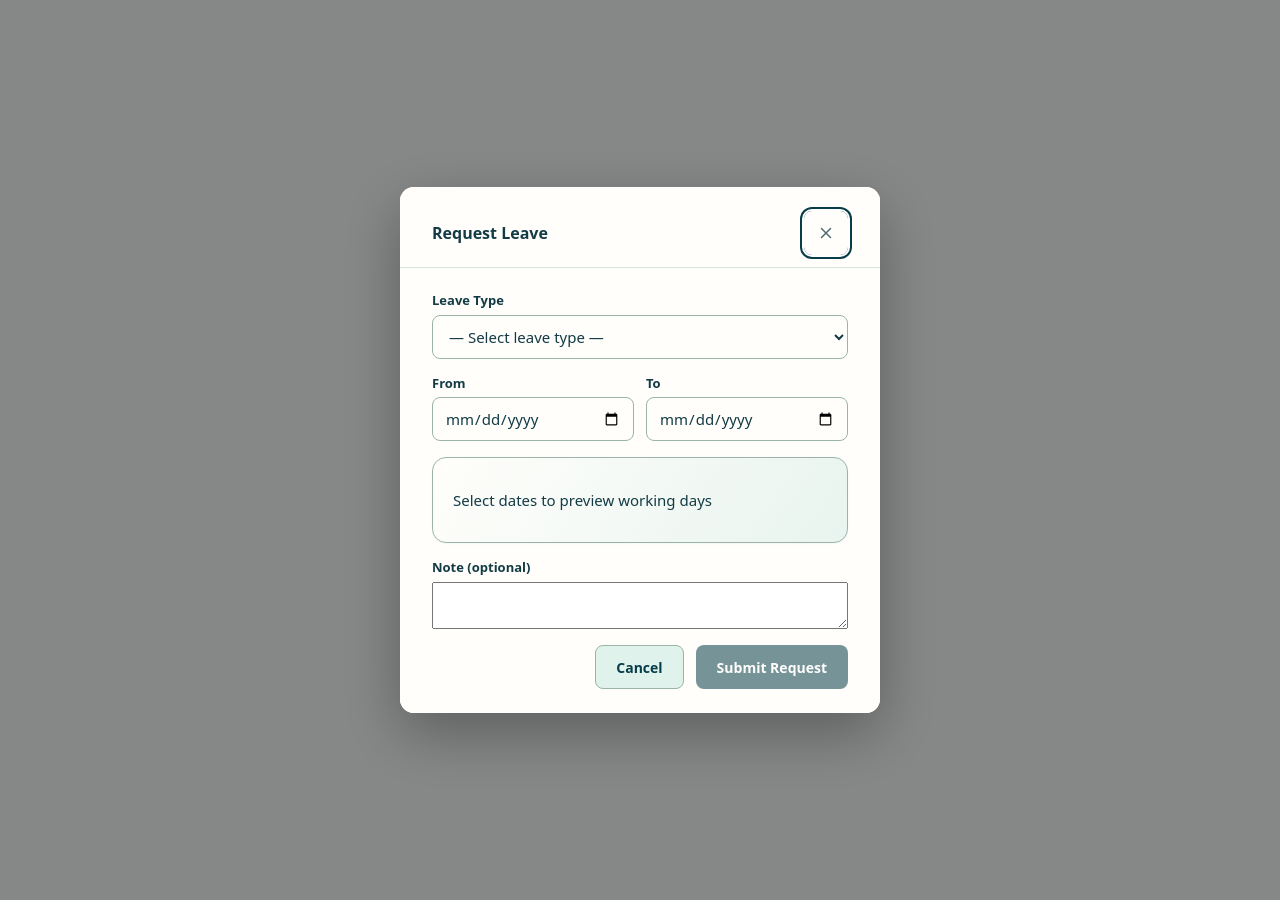
Test: RequestLeaveModal ATDD - Story 10.4 field-level server validation › [P1] keeps the generic block alert path for non-field validation failures
The width and height of the screenshot is (1280, 900).
Expected: the dialog with test id "request-leave-modal" is shown, x1=400 y1=187 x2=880 y2=713
Select "🌴 Annual Leave" in the dropdown labelled "Leave Type" at (640, 336), box x1=432 y1=314 x2=848 y2=358
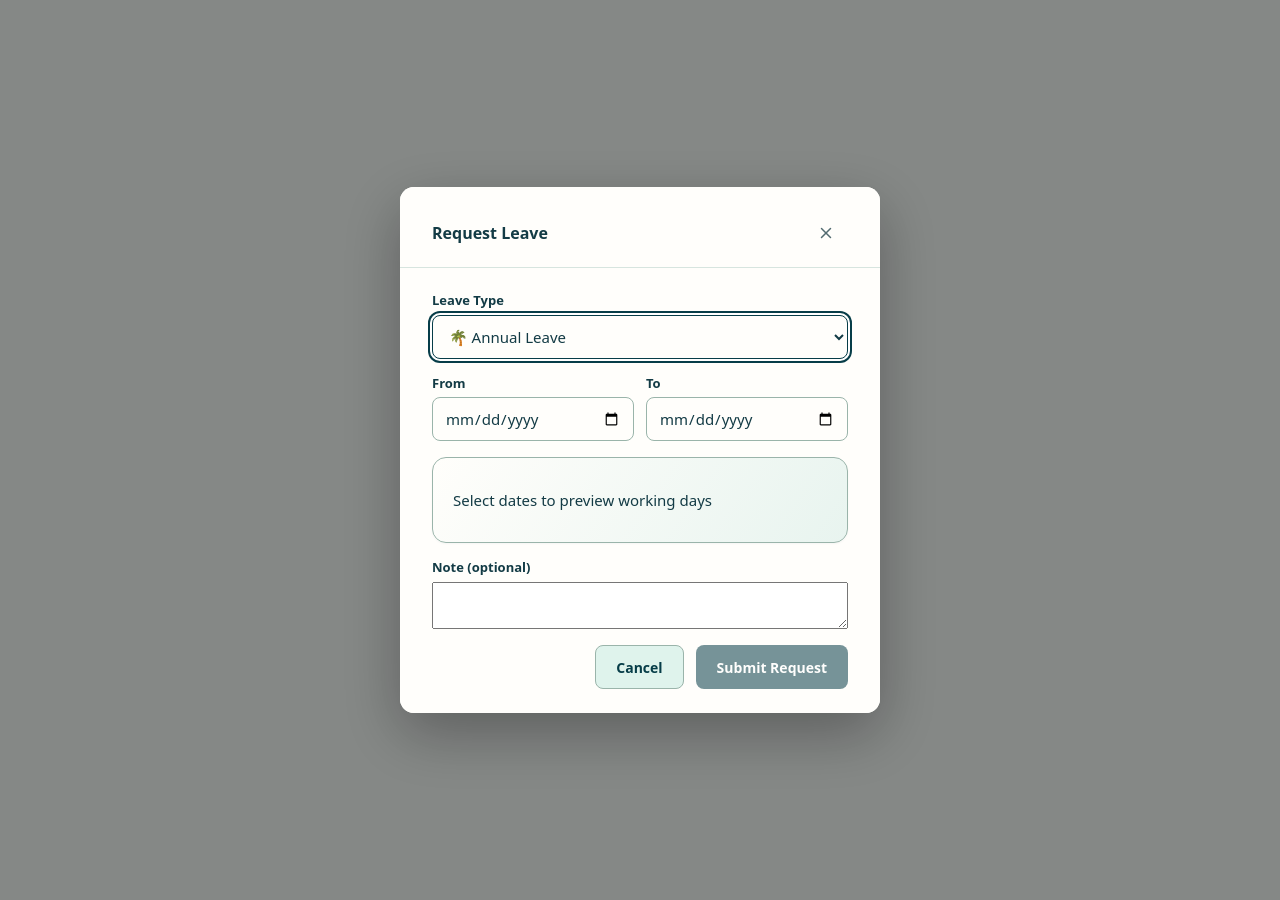
Type "2026-06-10" into the date field with test id "leave-from-date" at (533, 419), box x1=432 y1=397 x2=634 y2=441
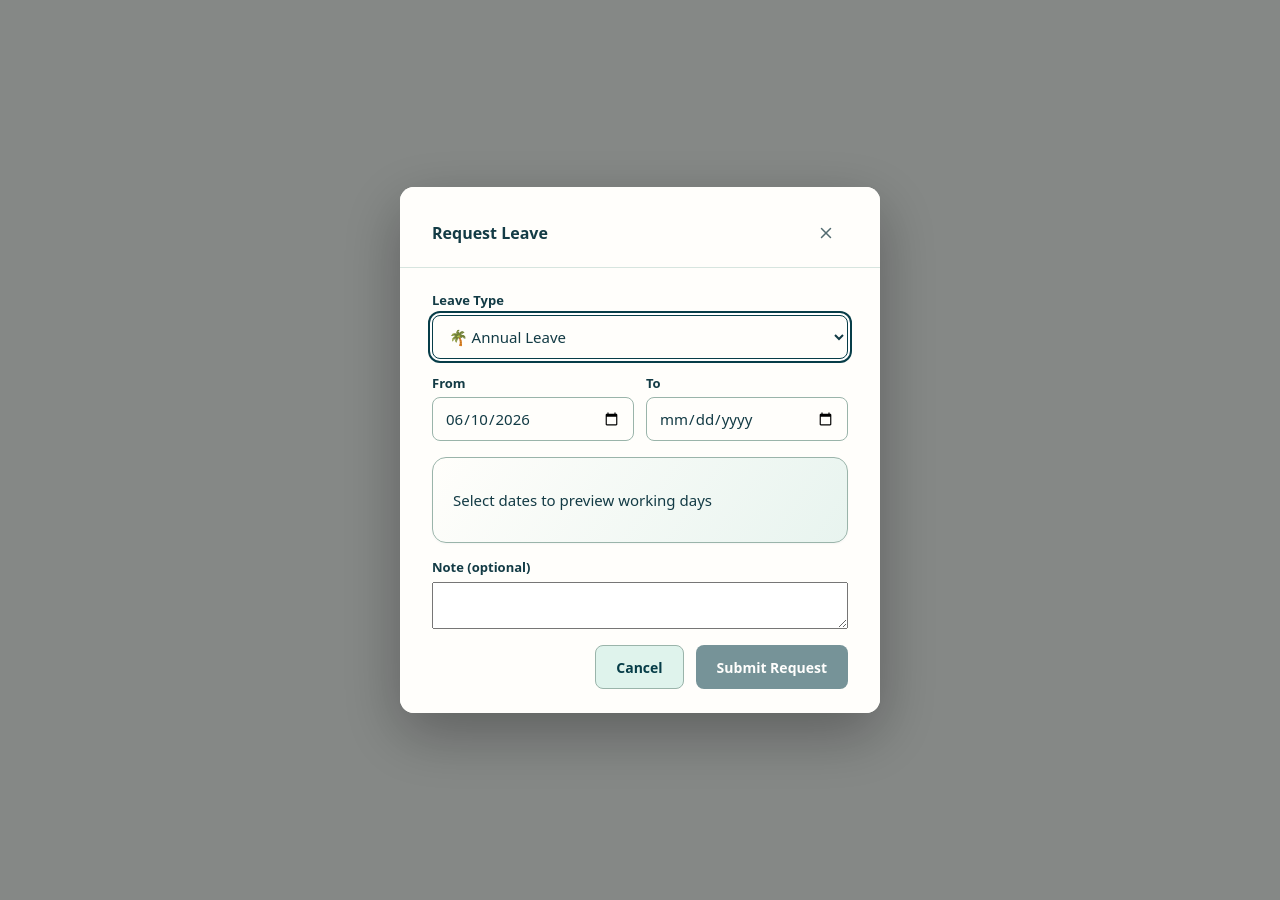
Type "2026-06-12" into the date field with test id "leave-to-date" at (747, 419), box x1=646 y1=397 x2=848 y2=441
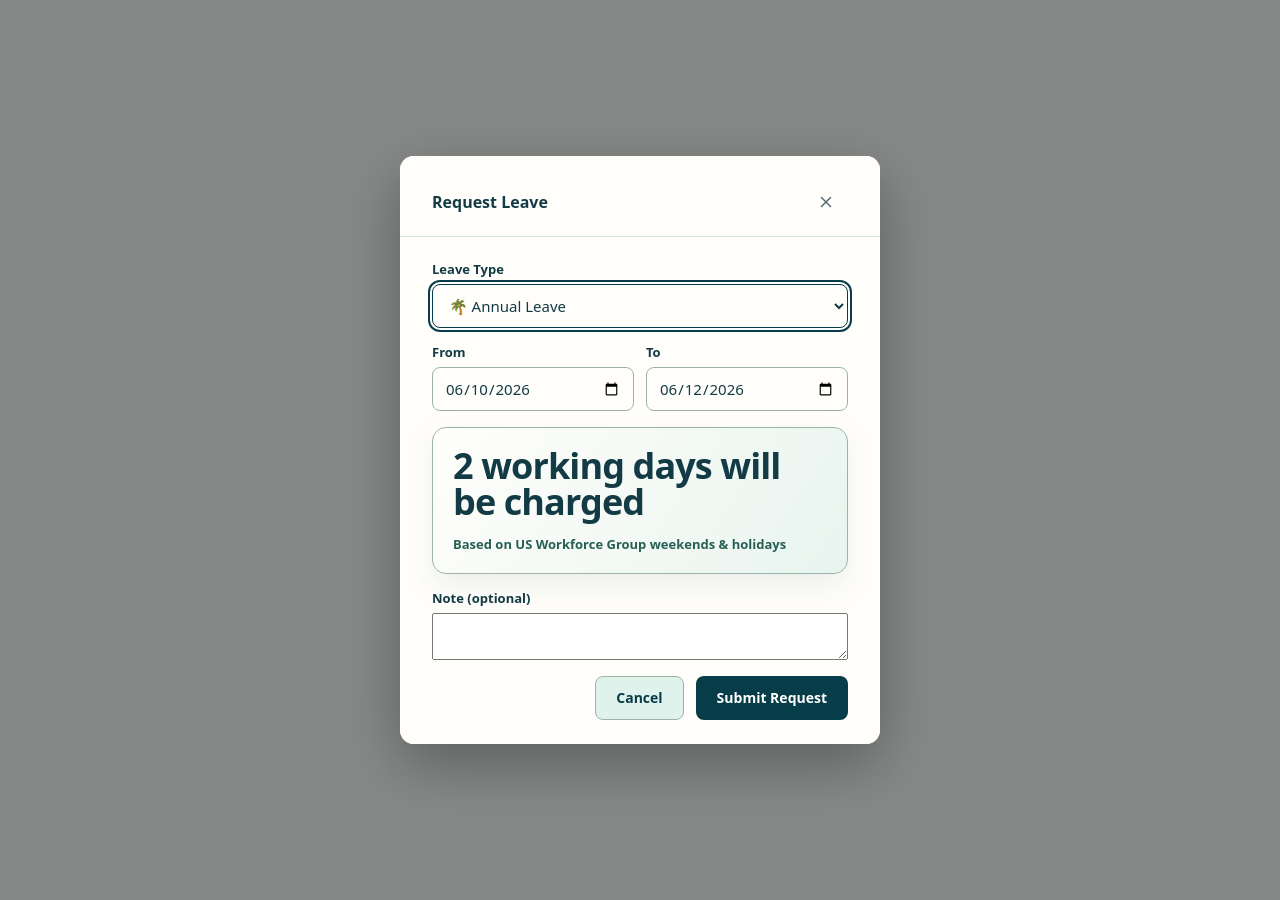
Expected: the button with test id "submit-request-btn" is enabled
Click the button with test id "submit-request-btn" at (772, 698), box x1=696 y1=676 x2=848 y2=720
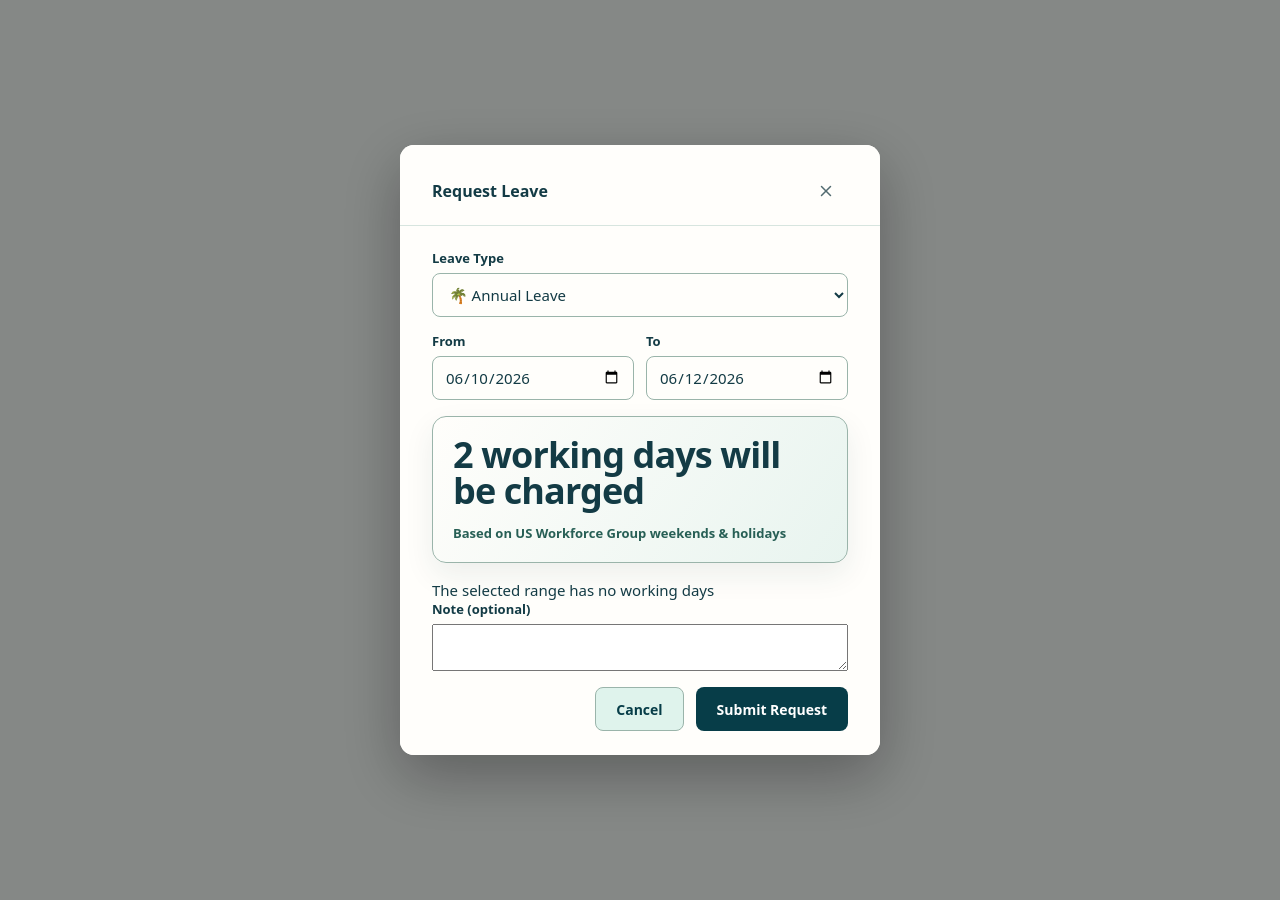
Expected: the message "The selected range has no working days" is shown, x1=432 y1=580 x2=714 y2=600
